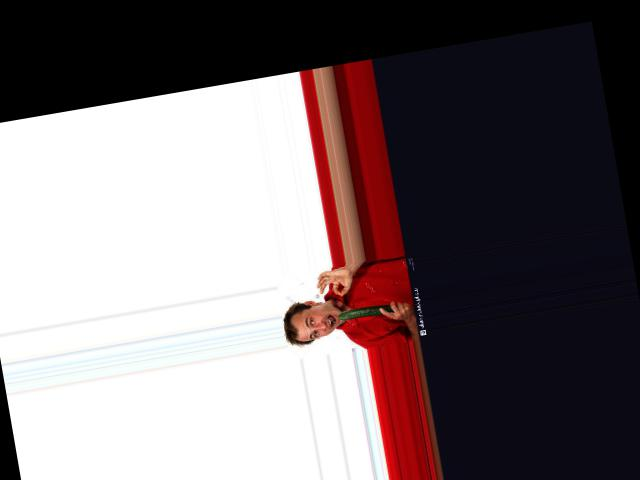cucumber: (337, 303, 392, 320)
